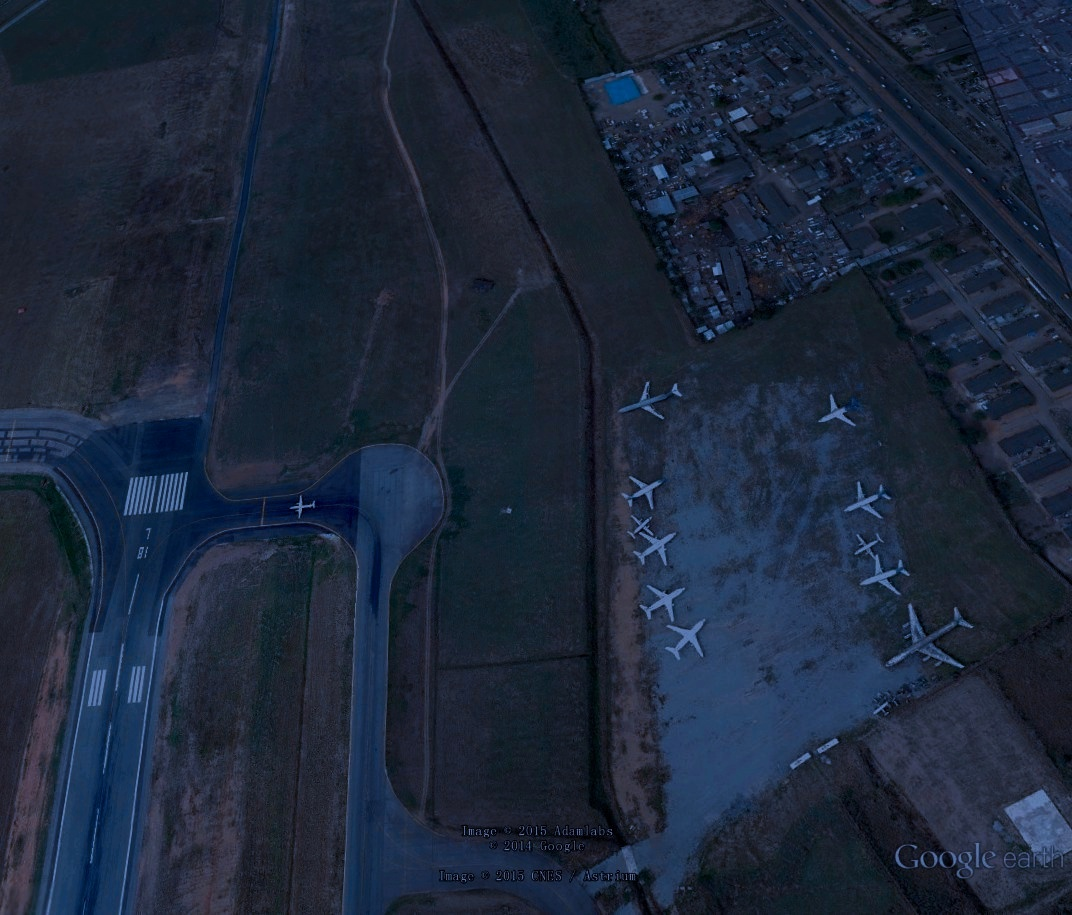aircraft: (880, 598, 982, 679), (618, 375, 691, 426), (855, 552, 918, 603), (631, 579, 690, 628), (660, 615, 712, 667), (616, 469, 669, 519), (840, 478, 898, 523), (810, 390, 865, 433), (630, 528, 684, 571), (850, 528, 891, 565), (286, 487, 323, 523), (622, 511, 661, 544), (871, 697, 897, 721)
